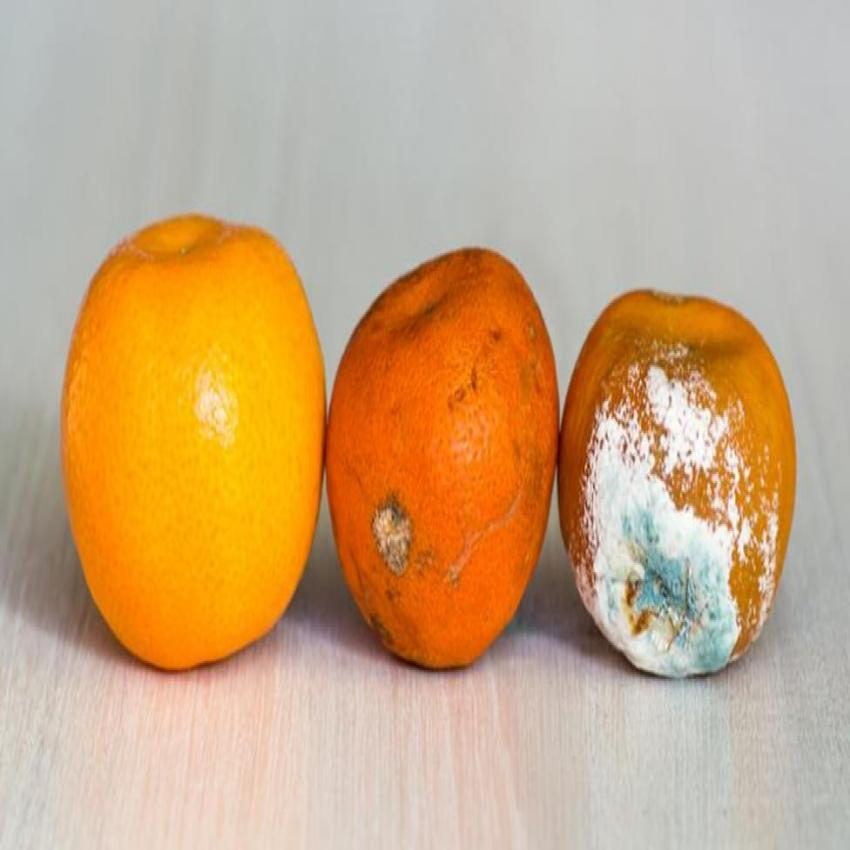Mal estado: (51, 166, 338, 702), (323, 188, 571, 704), (549, 244, 806, 728)
